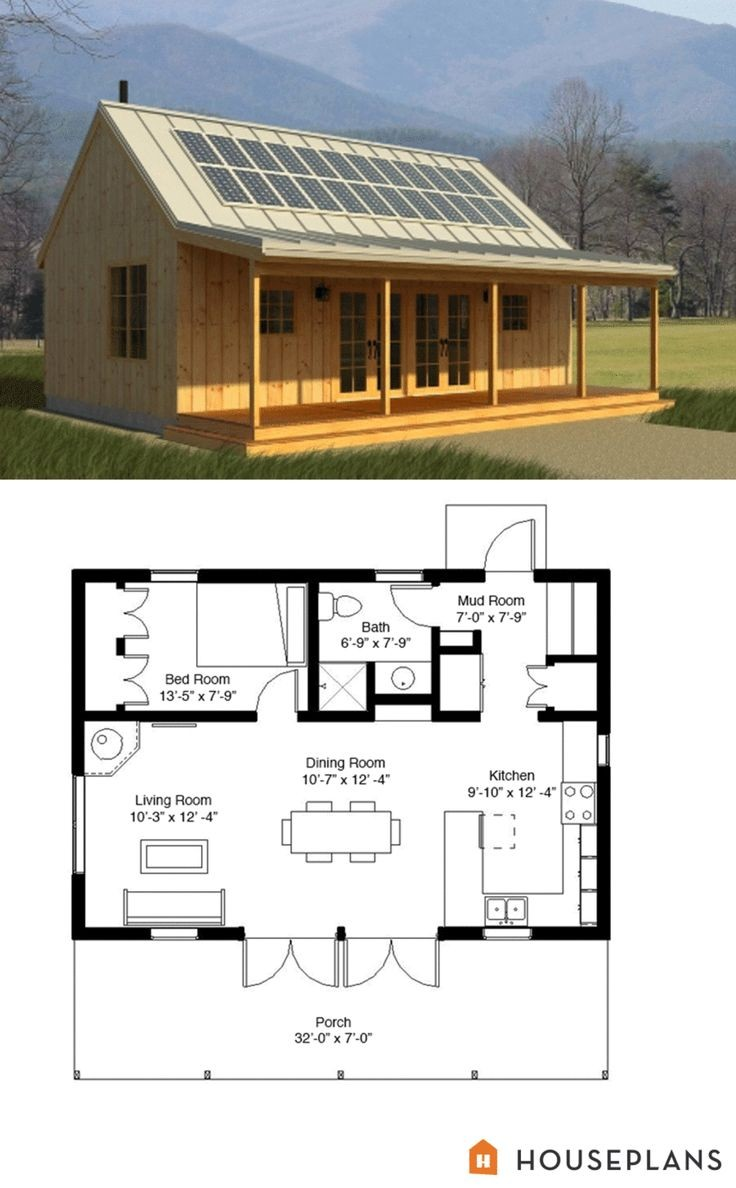door: (239, 922, 340, 1019), (345, 908, 444, 990), (74, 581, 165, 648), (477, 513, 551, 594), (85, 644, 168, 714), (377, 572, 448, 634), (242, 660, 307, 724), (511, 657, 560, 713)
room: (72, 717, 594, 928), (306, 568, 613, 719), (74, 572, 313, 725)
wall: (53, 557, 97, 777), (585, 762, 623, 951), (197, 557, 378, 592), (63, 704, 254, 736), (51, 906, 154, 960), (589, 551, 618, 738), (296, 561, 327, 727), (534, 914, 626, 960), (50, 876, 103, 952), (54, 556, 155, 591), (421, 624, 454, 728), (537, 554, 612, 592), (420, 560, 484, 598), (548, 642, 616, 675), (365, 686, 451, 711), (440, 911, 483, 958), (536, 709, 620, 733), (423, 696, 484, 728), (296, 709, 380, 732), (356, 657, 385, 720), (198, 915, 248, 949)
window: (59, 772, 99, 877), (485, 904, 532, 960), (374, 548, 423, 596), (150, 906, 198, 954), (148, 558, 201, 599), (583, 729, 629, 775)
